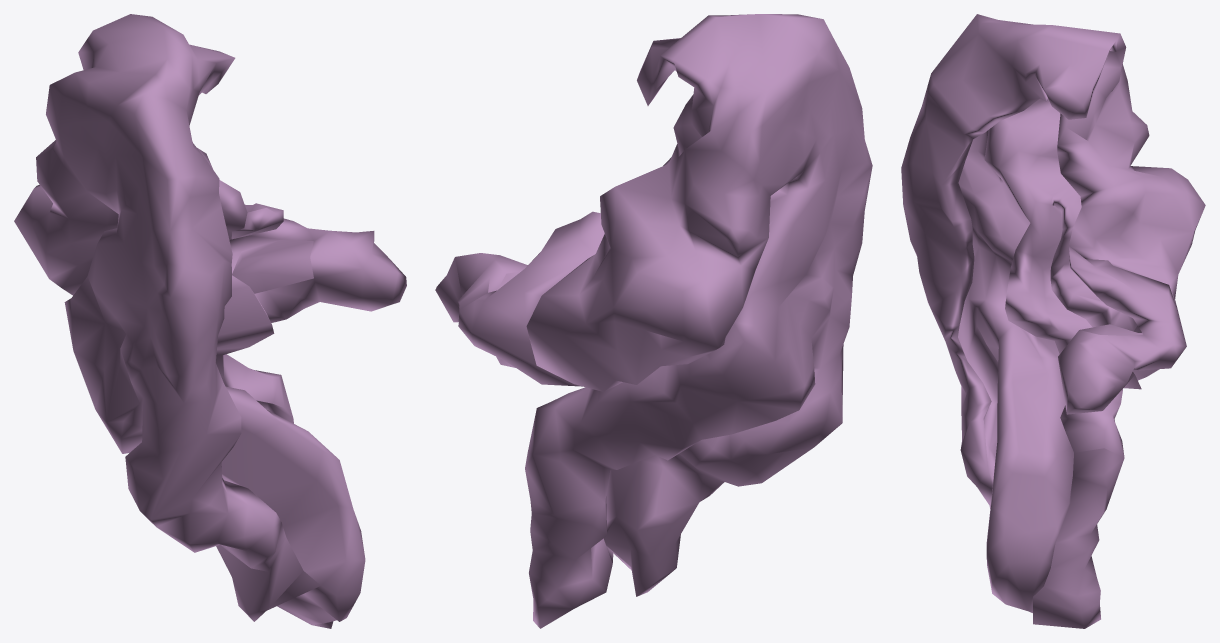
3 views of the same model, side by side, from view 1: azimuth 30°, elevation 25°; view 2: azimuth 150°, elevation 25°; view 3: azimuth 270°, elevation 25° (orthographic). The views are drawn at different scales.
Visible parts, largest first — view 1: 左侧舌回; view 2: 左侧舌回; view 3: 左侧舌回.
Part boxes in pixels (box(x1,y1,x2,y2)): 左侧舌回: box(14, 14, 406, 628); 左侧舌回: box(435, 14, 872, 628); 左侧舌回: box(901, 14, 1205, 628).
Bounding box in the file's own units: 0.0498 × 0.0897 × 0.0462.
